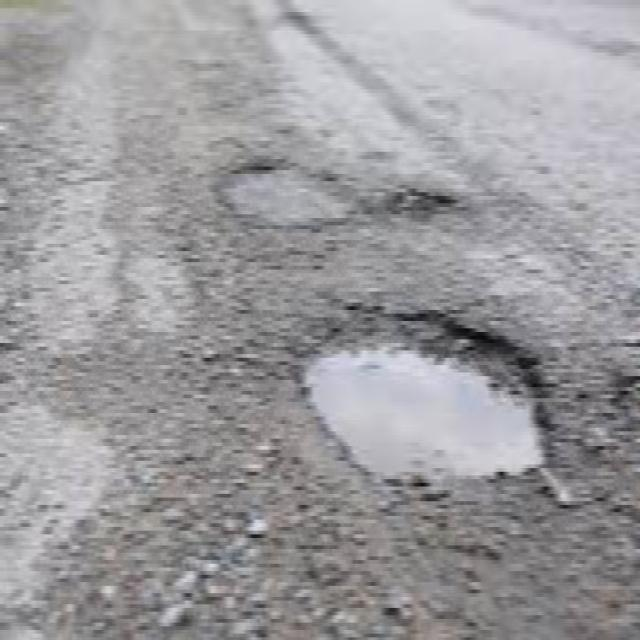Pothole: (282, 289, 560, 501), (221, 136, 465, 246)
